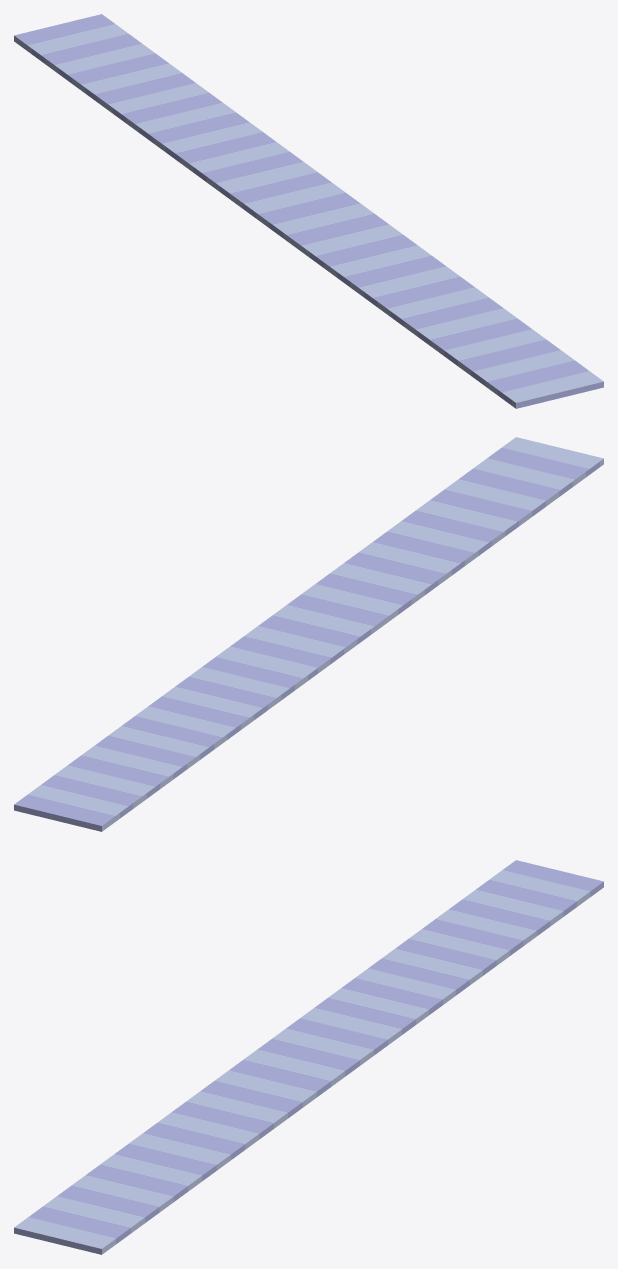
The model's file is platform2.fbx.
3 views of the same model, one above another, from view 1: azimuth 30°, elevation 25°; view 2: azimuth 150°, elevation 25°; view 3: azimuth 330°, elevation 25° (orthographic).
Visible parts, largest first — view 1: Cube.012; view 2: Cube.012; view 3: Cube.012.
Boxes of the visible parts, x1,y1,x2,y2 form: Cube.012: (14, 14, 603, 408); Cube.012: (14, 437, 603, 831); Cube.012: (14, 860, 603, 1254).
Size of the model in its own units: 3712 by 239 by 36748.
